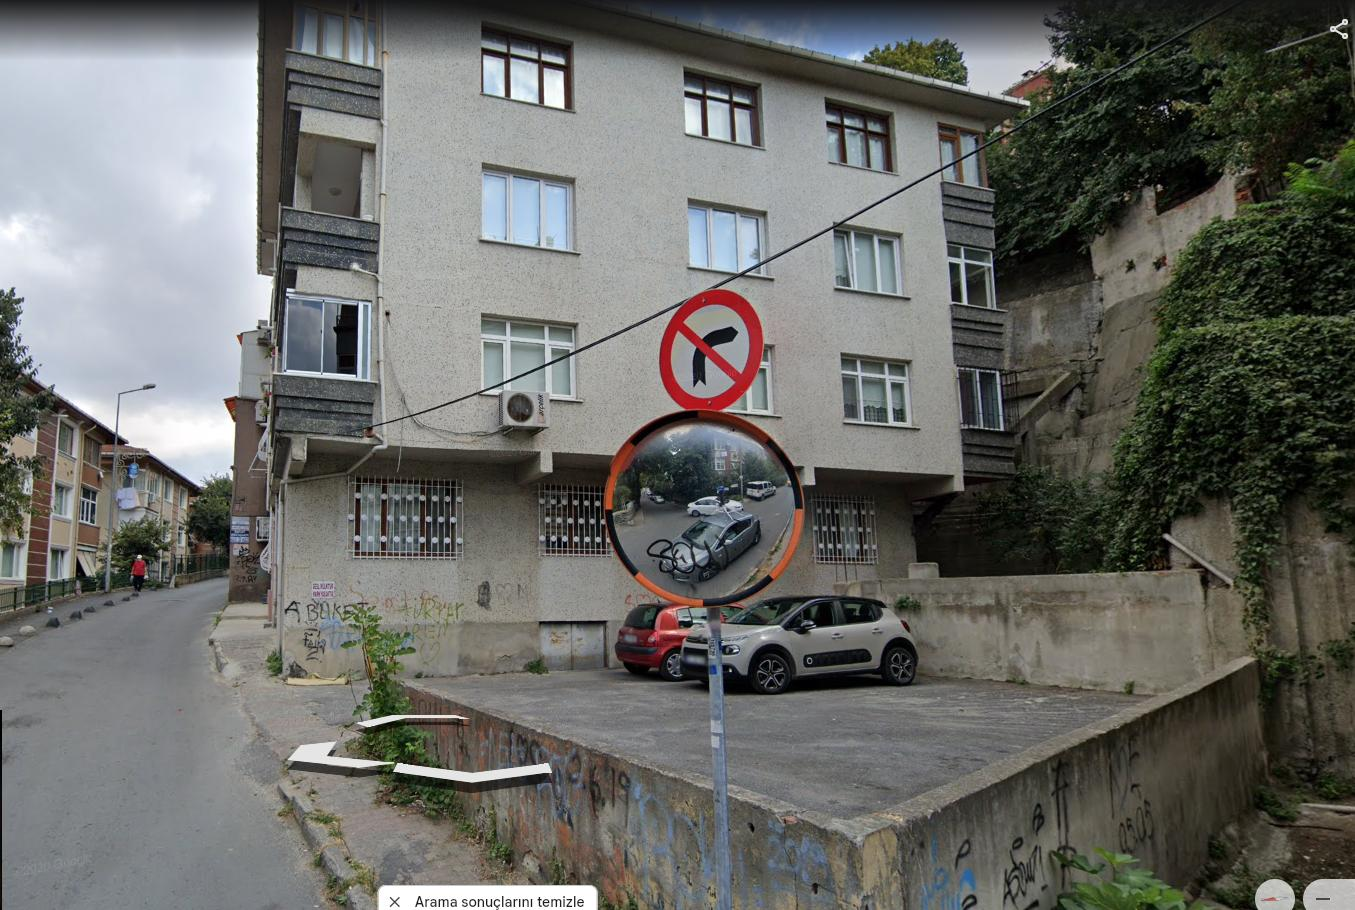rightturnsareforbidden: (663, 296, 760, 401)
